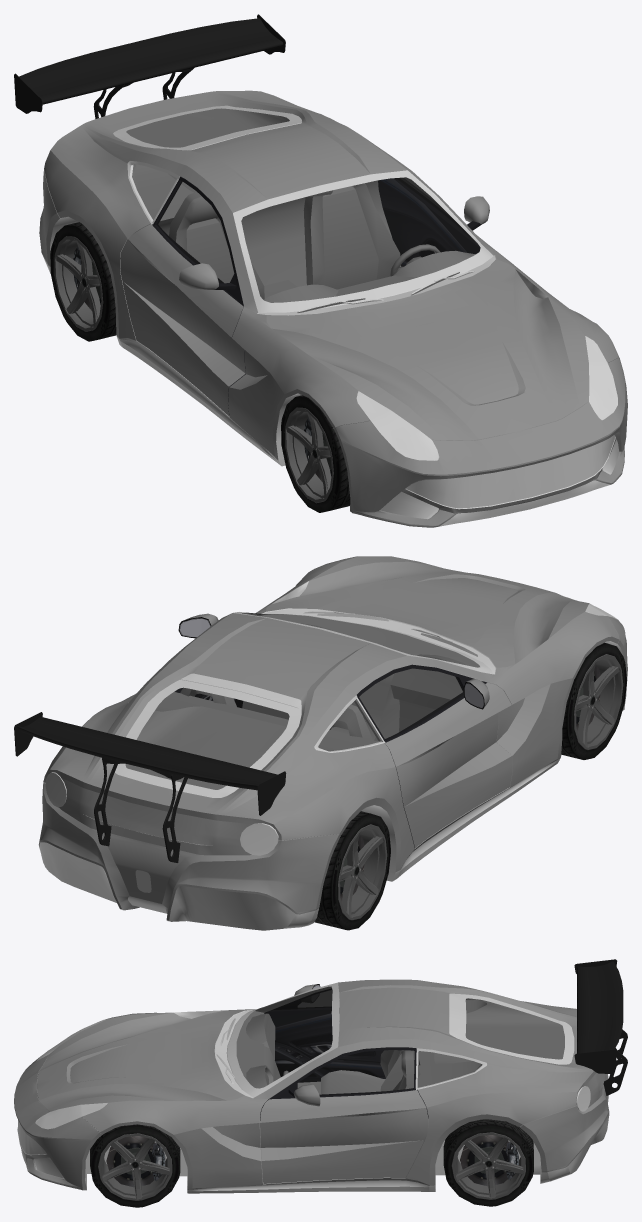
The model's file is Car 12.FBX.
3 views of the same model, one above another, from view 1: azimuth 30°, elevation 25°; view 2: azimuth 150°, elevation 25°; view 3: azimuth 270°, elevation 25° (orthographic). The views are drawn at different scales.
Parts seen in each view (by area): view 1: Body, Door_R, Wing, Wheel_BR, Wheel_FR, Door_L; view 2: Body, Door_R, Wing, Wheel_BR, Wheel_FR, Door_L; view 3: Body, Door_L, Wheel_BL, Wing, Door_R, Wheel_RL, Brake_BL, Brake_FL.
Boxes of the visible parts, x1,y1,x2,y2 form: Body: (39,90,627,527); Door_R: (120,176,245,416); Wing: (14,14,285,118); Wheel_BR: (50,222,116,341); Wheel_FR: (281,395,350,512); Door_L: (378,177,494,266); Body: (38,556,627,930); Door_R: (356,664,512,847); Wing: (14,712,286,862); Wheel_BR: (314,811,390,930); Wheel_FR: (561,642,627,759); Door_L: (174,613,242,707); Body: (14,979,609,1193); Door_L: (260,1047,428,1183); Wheel_BL: (443,1119,533,1206); Wing: (574,959,627,1095); Door_R: (264,984,385,1082); Wheel_RL: (90,1124,180,1207); Brake_BL: (460,1135,518,1186); Brake_FL: (106,1136,165,1187).
Size of the model in its own units: 159 by 98.11 by 364.
